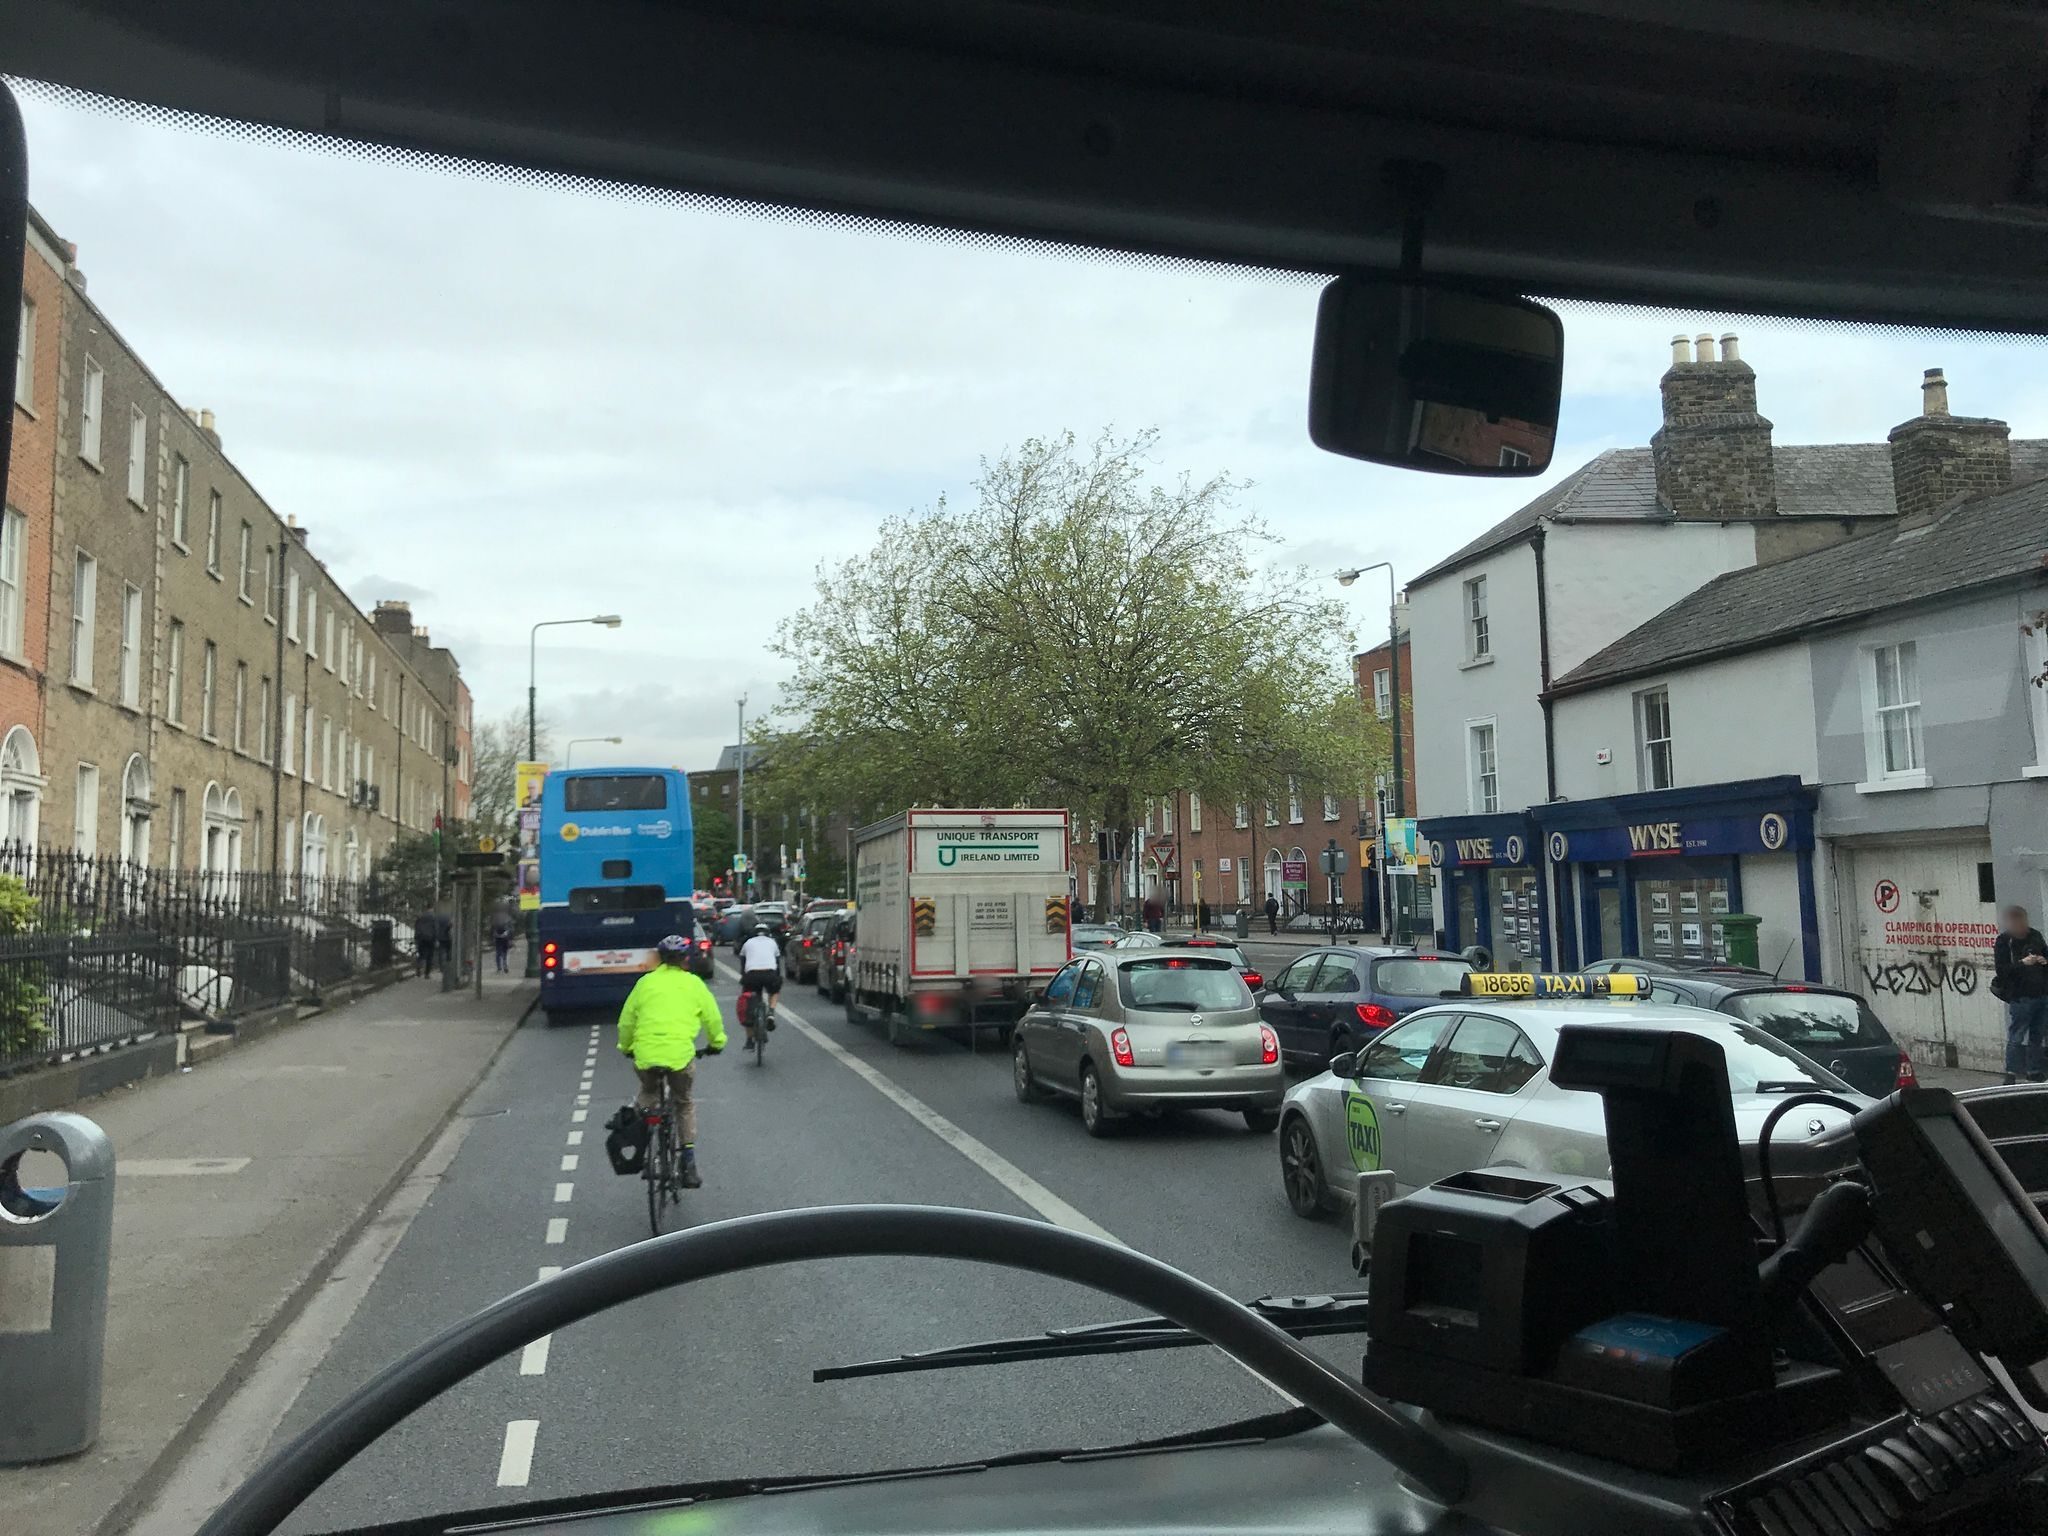property sign: (1268, 841, 1334, 899)
